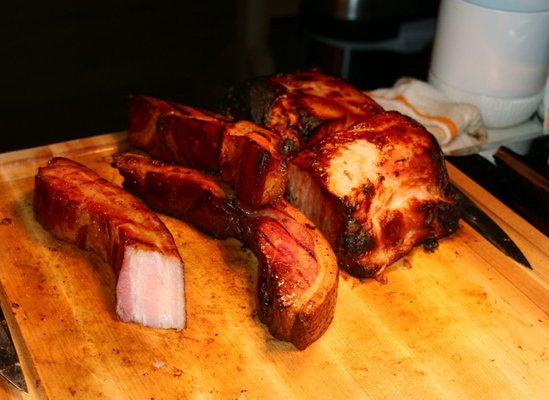pizza: (428, 0, 549, 129)
